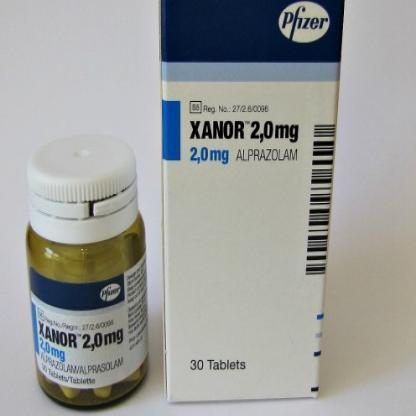jar: (27, 135, 145, 406)
